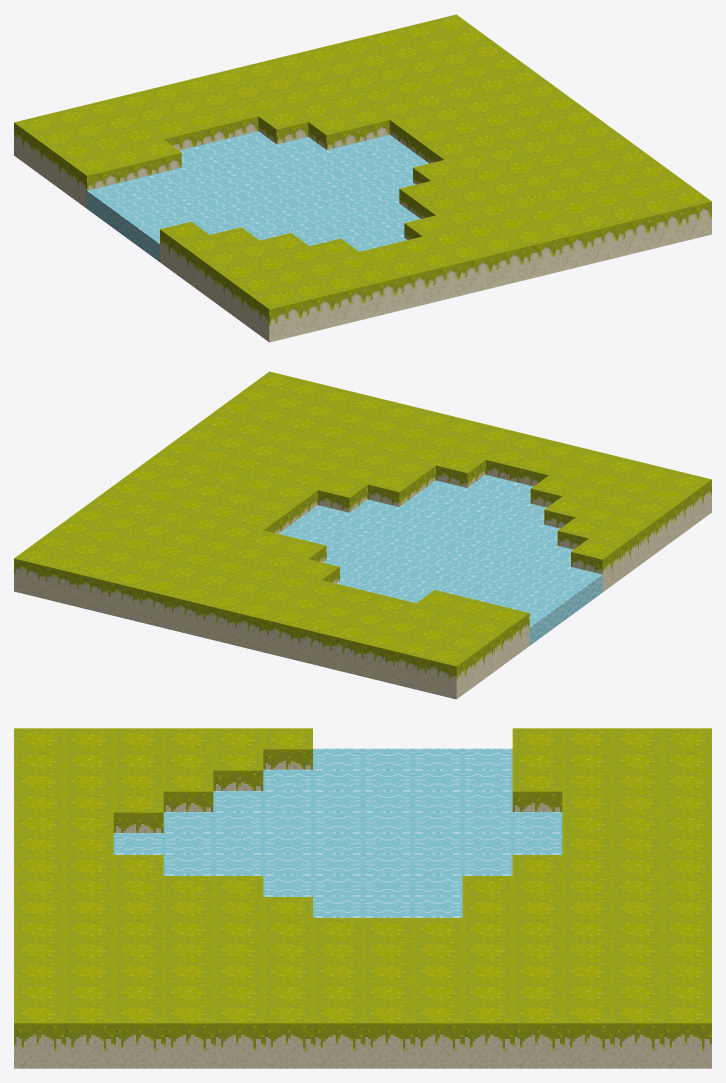
3 views of the same model, one above another, from view 1: azimuth 30°, elevation 25°; view 2: azimuth 150°, elevation 25°; view 3: azimuth 270°, elevation 25° (orthographic). The views are drawn at different scales.
Visible parts, largest first — view 1: Ground_Grass_D__2__1__42__1; view 2: Ground_Grass_D__2__1__42__1; view 3: Ground_Grass_D__2__1__42__1.
Part boxes in pixels (x1,y1,x2,y2): Ground_Grass_D__2__1__42__1: (14,14,711,342); Ground_Grass_D__2__1__42__1: (14,371,711,699); Ground_Grass_D__2__1__42__1: (14,728,711,1068).
Bounding box in the file's own units: 8400 × 600 × 8400.
2 materials, 2 textured.
